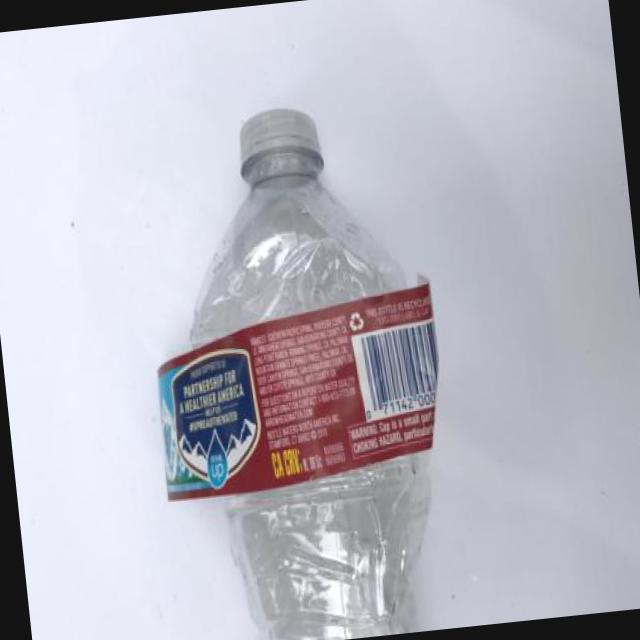plastic: (187, 69, 464, 640)
